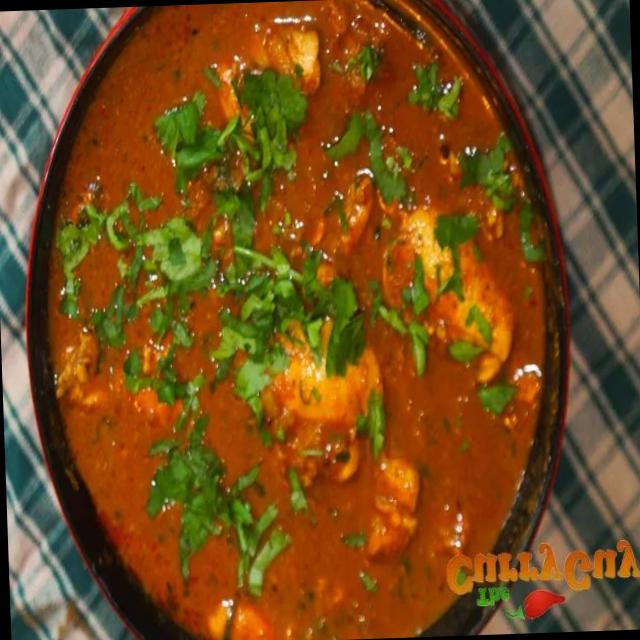chicken: (50, 4, 527, 628)
